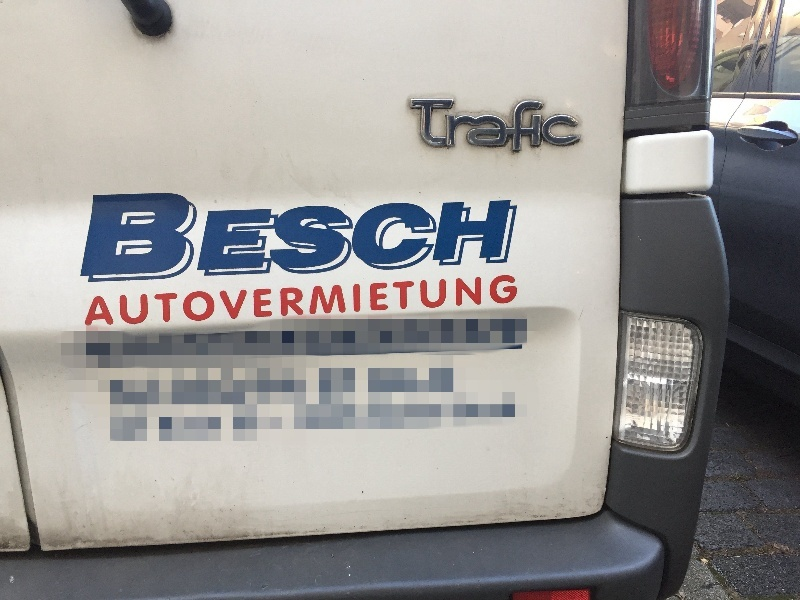text: (97, 191, 112, 286), (113, 191, 128, 286), (129, 191, 144, 286), (145, 191, 160, 286), (161, 191, 176, 286), (177, 191, 192, 286), (193, 191, 208, 286), (209, 191, 224, 286), (225, 191, 240, 286), (241, 191, 256, 286), (257, 191, 272, 286), (273, 191, 288, 286), (289, 191, 304, 286), (305, 191, 320, 286), (321, 191, 336, 286), (337, 191, 352, 286), (353, 191, 368, 286), (369, 191, 384, 286), (385, 191, 400, 286), (401, 191, 416, 286), (417, 191, 432, 286), (433, 191, 448, 286), (449, 191, 464, 286), (465, 191, 480, 286), (481, 191, 496, 286), (497, 191, 512, 286), (417, 97, 432, 155), (433, 97, 448, 155), (449, 97, 464, 155), (465, 97, 480, 155), (481, 97, 496, 155), (497, 97, 512, 155), (513, 97, 528, 155), (529, 97, 544, 155), (545, 97, 560, 155), (561, 97, 576, 155), (97, 276, 112, 329), (113, 276, 128, 329), (129, 276, 144, 329), (145, 276, 160, 329), (161, 276, 176, 329), (177, 276, 192, 329), (193, 276, 208, 329), (209, 276, 224, 329), (225, 276, 240, 329), (241, 276, 256, 329), (257, 276, 272, 329), (273, 276, 288, 329), (289, 276, 304, 329), (305, 276, 320, 329), (321, 276, 336, 329), (337, 276, 352, 329), (353, 276, 368, 329), (369, 276, 384, 329), (385, 276, 400, 329), (401, 276, 416, 329), (417, 276, 432, 329), (433, 276, 448, 329), (449, 276, 464, 329), (465, 276, 480, 329), (481, 276, 496, 329), (497, 276, 512, 329), (513, 191, 520, 286), (410, 97, 416, 155), (577, 97, 583, 155), (513, 276, 519, 329), (93, 191, 96, 286), (94, 276, 96, 329)
